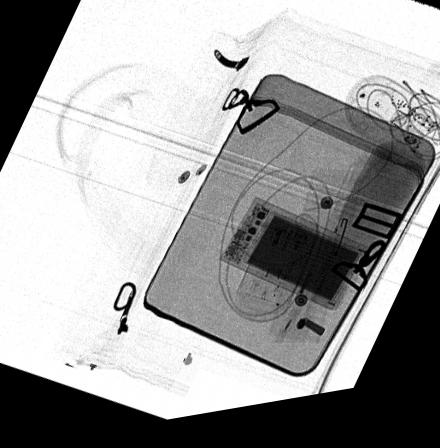Powerbank: (216, 203, 370, 324)
